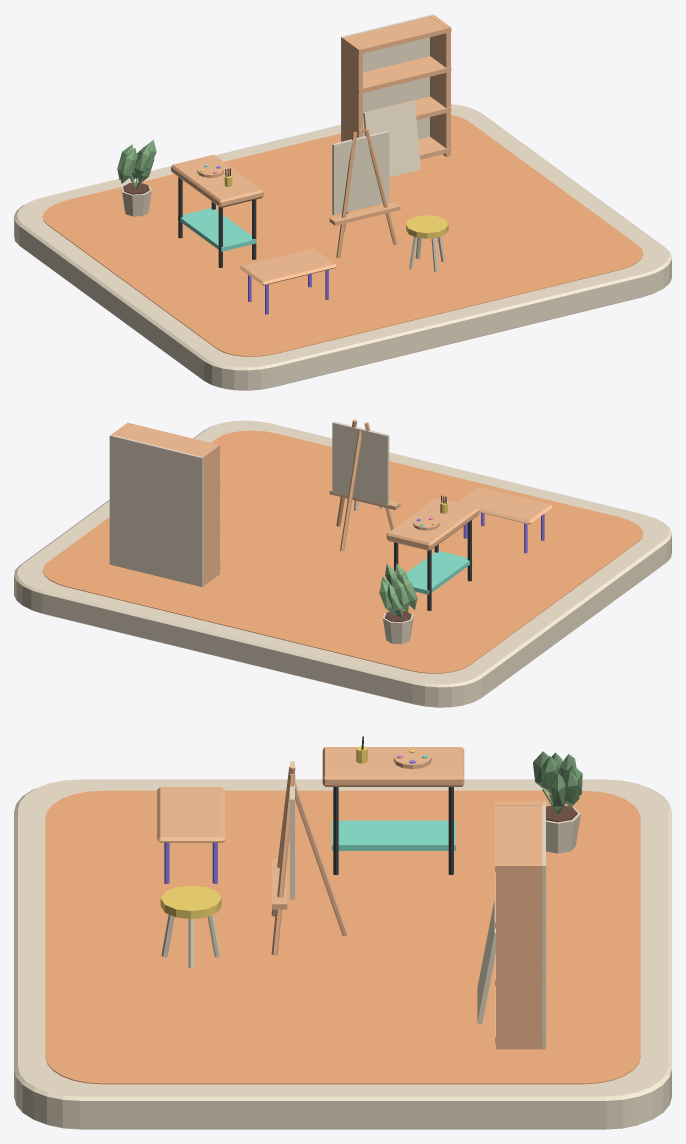
The picture shows the model from 3 angles, top to bottom: view 1: azimuth 30°, elevation 25°; view 2: azimuth 150°, elevation 25°; view 3: azimuth 270°, elevation 25°; orthographic projection. The views are drawn at different scales.
Parts seen in each view (by area): view 1: COM-02 Floor Surface, COM-01 Rounded Base Direct, Canvas, Back, Blank canvas, Worktop, Pot, Side.003, Rounded table top, Shelf.003, Side.002, Shelf.002 (+6 smaller); view 2: COM-02 Floor Surface, COM-01 Rounded Base Direct, Back, Canvas, Worktop, Pot, Side.002, Rounded table top, Lower shelf, Shelf.003, Rear leg; view 3: COM-02 Floor Surface, COM-01 Rounded Base Direct, Side.003, Worktop, Rounded table top, Lower shelf, Pot, Shelf.003, Seat, Blank canvas, Side.001, Rear leg (+3 smaller).
Boxes of the visible parts, <box> form: COM-02 Floor Surface: <box>42,115,643,356</box>; COM-01 Rounded Base Direct: <box>14,104,671,390</box>; Canvas: <box>332,130,389,215</box>; Back: <box>341,14,433,141</box>; Blank canvas: <box>363,101,420,177</box>; Worktop: <box>171,154,263,207</box>; Pot: <box>117,140,156,216</box>; Side.003: <box>430,15,450,156</box>; Rounded table top: <box>239,248,337,285</box>; Shelf.003: <box>346,16,451,54</box>; Side.002: <box>342,36,362,141</box>; Shelf.002: <box>346,56,451,93</box>; COM-02 Floor Surface: <box>42,430,643,673</box>; COM-01 Rounded Base Direct: <box>14,420,671,707</box>; Back: <box>109,435,203,586</box>; Canvas: <box>332,421,389,506</box>; Worktop: <box>386,497,479,550</box>; Pot: <box>379,563,417,644</box>; Side.002: <box>199,444,219,585</box>; Rounded table top: <box>458,487,552,524</box>; Lower shelf: <box>406,551,472,594</box>; Shelf.003: <box>116,422,220,461</box>; Rear leg: <box>340,430,361,551</box>; COM-02 Floor Surface: <box>45,790,640,1084</box>; COM-01 Rounded Base Direct: <box>14,779,671,1129</box>; Side.003: <box>496,862,544,1049</box>; Worktop: <box>322,747,464,786</box>; Rounded table top: <box>157,787,225,842</box>; Lower shelf: <box>331,820,455,850</box>; Pot: <box>533,751,582,853</box>; Shelf.003: <box>495,802,544,872</box>; Seat: <box>160,885,221,918</box>; Blank canvas: <box>477,898,495,1023</box>; Side.001: <box>271,774,295,955</box>; Rear leg: <box>295,781,348,936</box>.
Bounding box in the file's own units: 6 × 1.9 × 5.2.
1 material, 1 textured.
